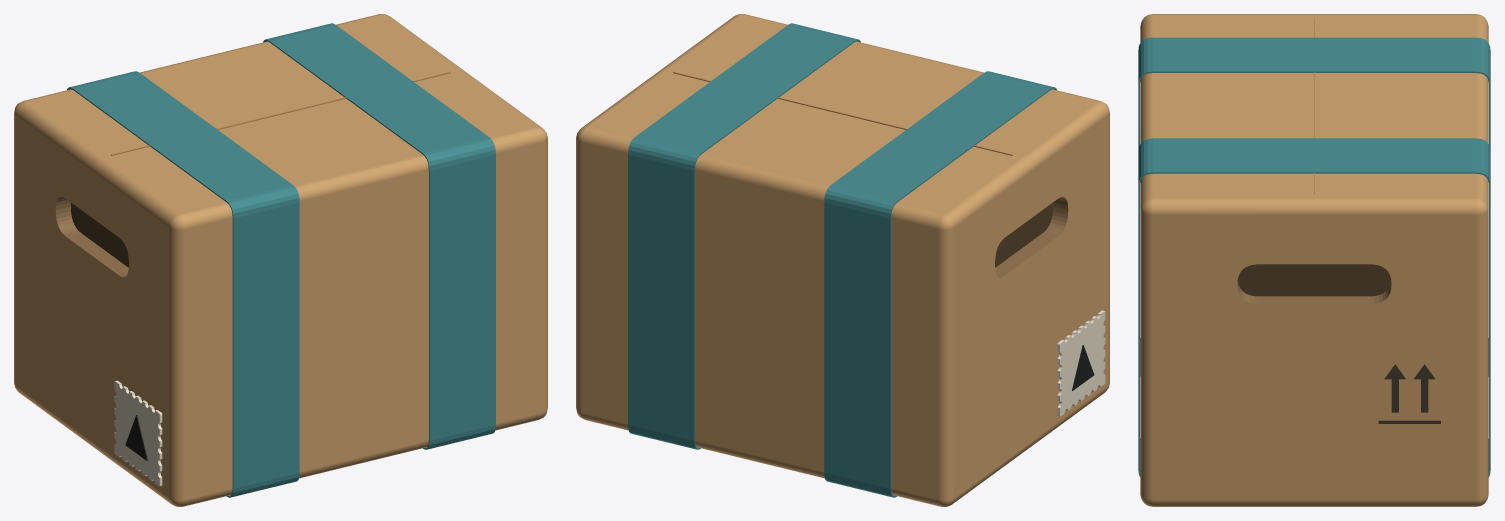
The model's file is play-parcel-large-teal.glb.
The picture shows the model from 3 angles, left to right: view 1: azimuth 30°, elevation 25°; view 2: azimuth 150°, elevation 25°; view 3: azimuth 270°, elevation 25°; orthographic projection. The views are drawn at different scales.
Visible parts, largest first — view 1: Parcel_Carton, Parcel_Tape_Parallel_1, Parcel_Tape_Parallel_2, Parcel_Paper_Label, Parcel_Carry_Slot_Walls_Negative_X, Parcel_Carry_Slot_Interior_Negative_X; view 2: Parcel_Carton, Parcel_Tape_Parallel_1, Parcel_Tape_Parallel_2, Parcel_Paper_Label, Parcel_Carry_Slot_Walls_Negative_X, Parcel_Carry_Slot_Interior_Negative_X; view 3: Parcel_Carton, Parcel_Tape_Parallel_2, Parcel_Tape_Parallel_1, Parcel_Carry_Slot_Interior_Positive_X, Parcel_Carry_Slot_Walls_Positive_X, Parcel_Up_Arrows_Positive_X.
Part boxes in pixels (box(x1,y1,x2,y2)): Parcel_Carton: box(14, 14, 547, 506); Parcel_Tape_Parallel_1: box(67, 71, 299, 497); Parcel_Tape_Parallel_2: box(263, 23, 495, 449); Parcel_Paper_Label: box(114, 380, 162, 486); Parcel_Carry_Slot_Walls_Negative_X: box(55, 197, 128, 277); Parcel_Carry_Slot_Interior_Negative_X: box(71, 202, 128, 267); Parcel_Carton: box(576, 14, 1109, 506); Parcel_Tape_Parallel_1: box(824, 71, 1056, 497); Parcel_Tape_Parallel_2: box(628, 23, 860, 449); Parcel_Paper_Label: box(1057, 310, 1105, 416); Parcel_Carry_Slot_Walls_Negative_X: box(995, 197, 1068, 277); Parcel_Carry_Slot_Interior_Negative_X: box(995, 202, 1052, 267); Parcel_Carton: box(1140, 14, 1488, 506); Parcel_Tape_Parallel_2: box(1138, 138, 1490, 476); Parcel_Tape_Parallel_1: box(1138, 37, 1490, 376); Parcel_Carry_Slot_Interior_Positive_X: box(1237, 264, 1391, 296); Parcel_Carry_Slot_Walls_Positive_X: box(1237, 281, 1391, 304); Parcel_Up_Arrows_Positive_X: box(1378, 364, 1440, 423).
Bounding box in the file's own units: 0.253 × 0.187 × 0.192.
